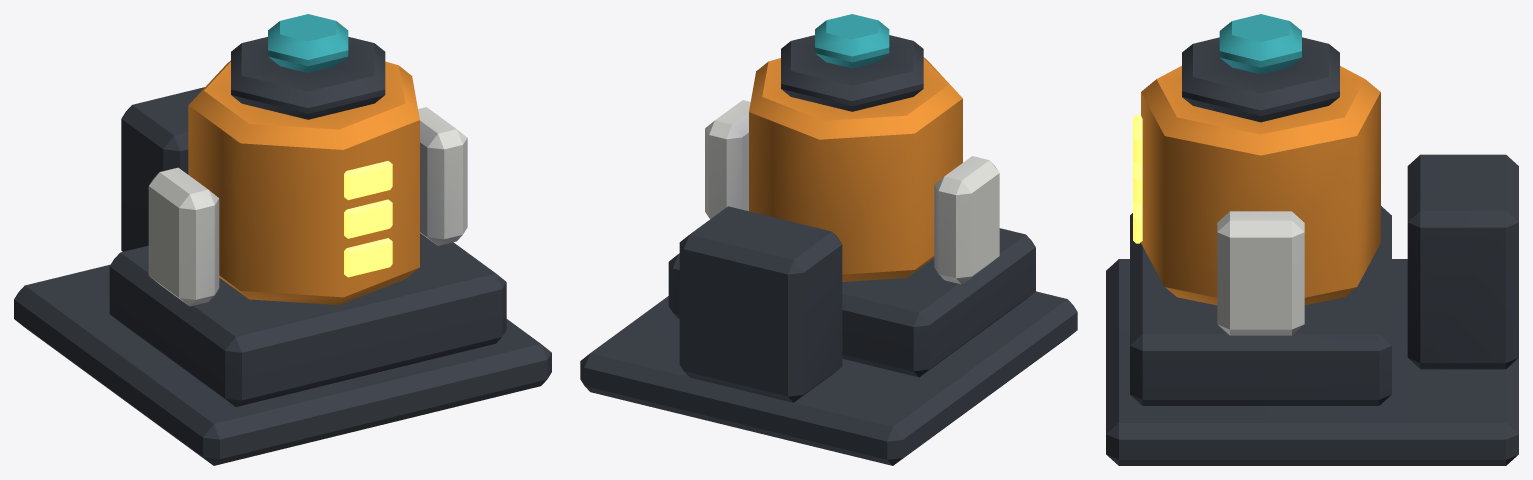
File: R4X_Battery_LOD1.glb
3 views of the same model, side by side, from view 1: azimuth 30°, elevation 25°; view 2: azimuth 150°, elevation 25°; view 3: azimuth 270°, elevation 25° (orthographic). The views are drawn at different scales.
Parts seen in each view (by area): view 1: R4X_Battery_LOD1; view 2: R4X_Battery_LOD1; view 3: R4X_Battery_LOD1.
Part boxes in pixels (x1,y1,x2,y2): R4X_Battery_LOD1: (14, 14, 551, 465); R4X_Battery_LOD1: (580, 14, 1077, 465); R4X_Battery_LOD1: (1106, 14, 1518, 465).
Bounding box in the file's own units: 0.52 × 0.495 × 0.52.
